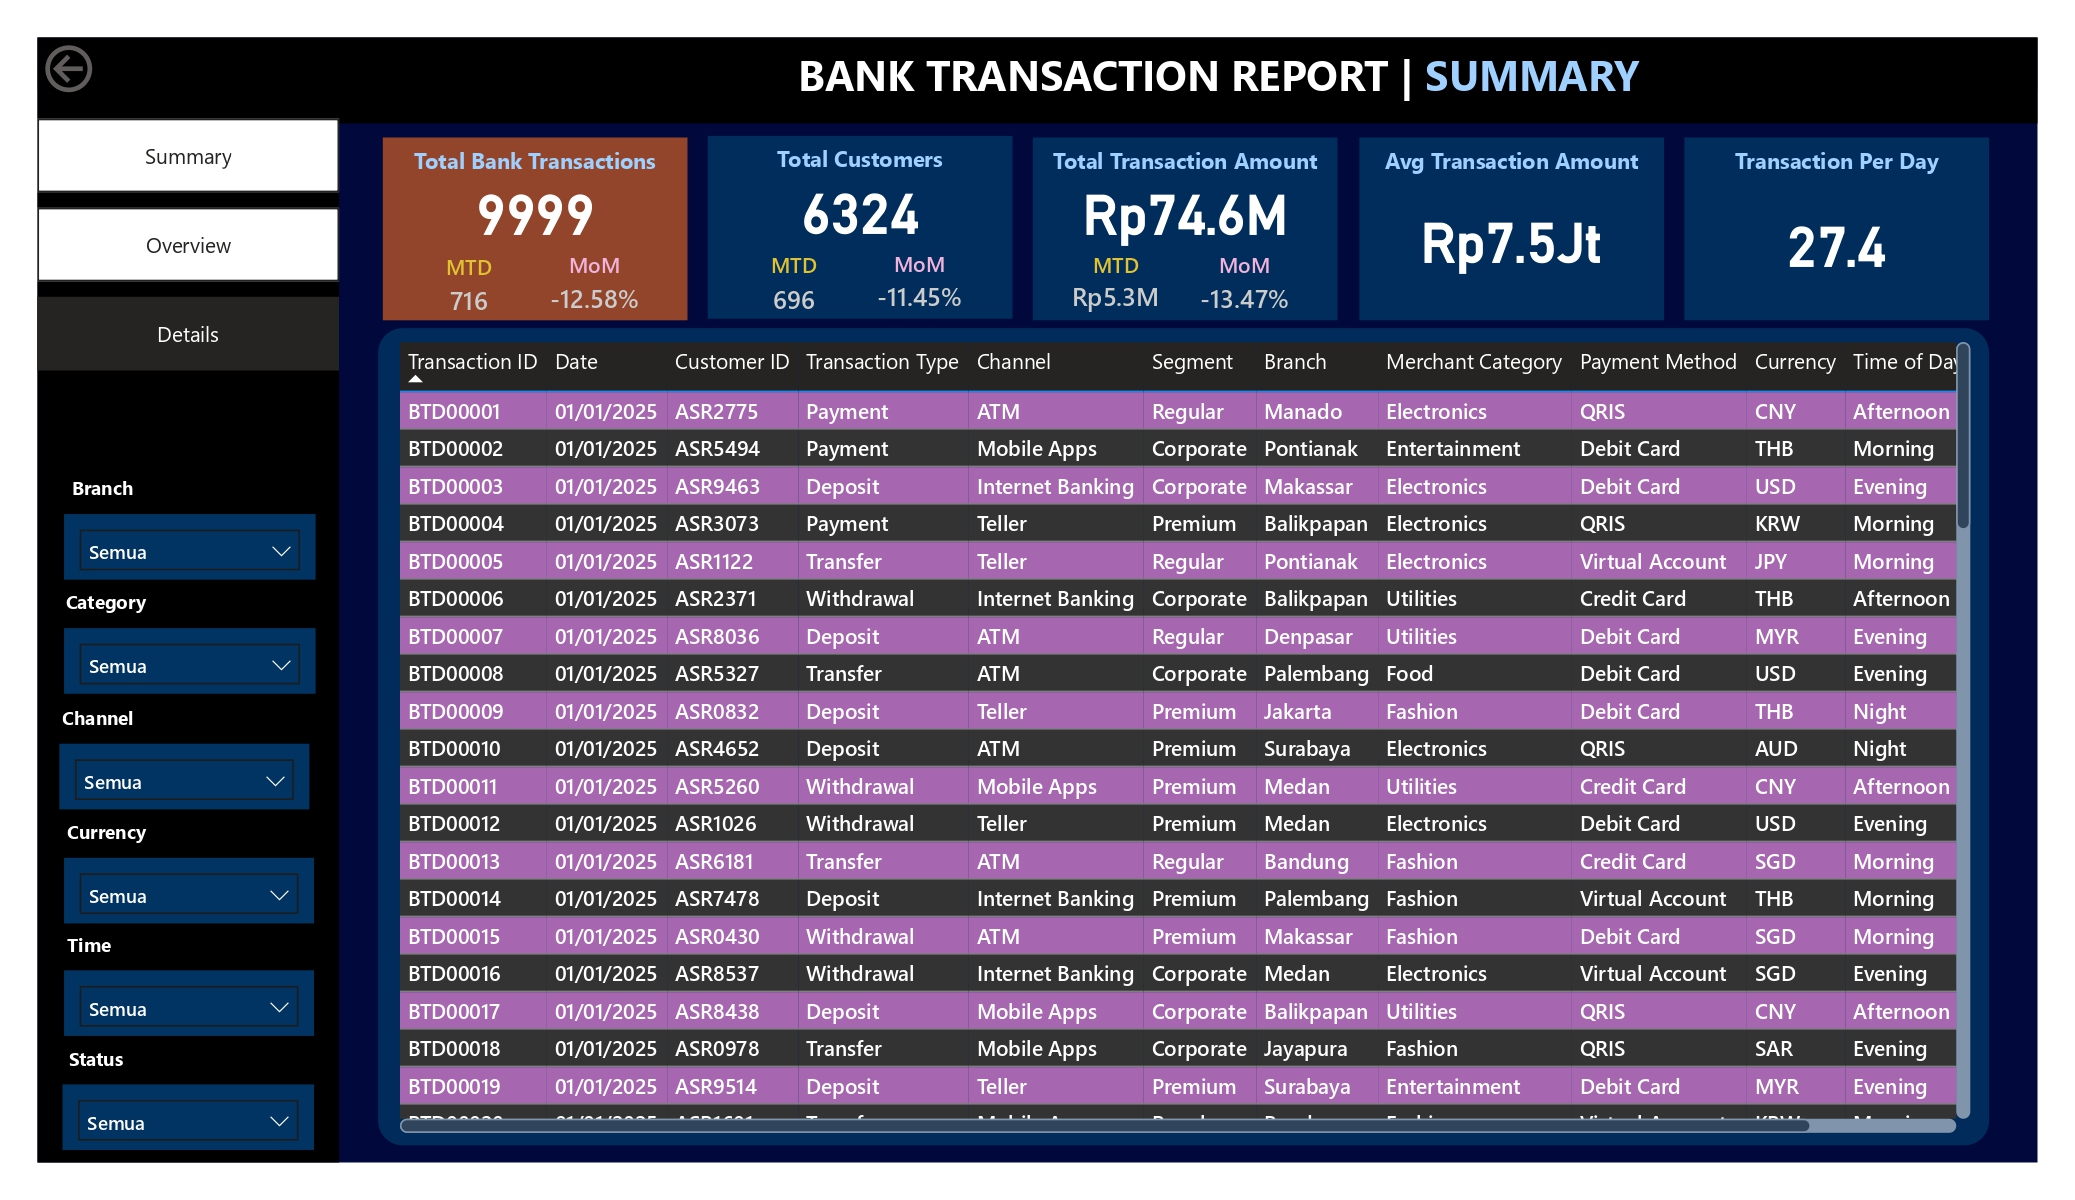

The page's visual inventory and layout, read from the dashboard file:
{"tool":"powerbi","page":{"name":"Summary","canvas":[1280,720],"ordinal":0},"visuals":[{"type":"shape","box":[0,54.8,192,665.5],"z":0},{"type":"shape","box":[428.9,63.3,195.1,117.3],"z":0,"group":"g5"},{"type":"shape","box":[220.6,63.7,195.1,117.3],"z":0,"group":"g4"},{"type":"shape","box":[637.3,63.7,195.1,117.3],"z":0,"group":"g6"},{"type":"shape","box":[845.7,63.7,195.1,117.3],"z":0,"group":"g7"},{"type":"shape","box":[1054.1,63.7,195.1,117.3],"z":0,"group":"g8"},{"type":"textbox","box":[223.1,202.3,328.9,39.5],"z":0,"group":"g9"},{"type":"textbox","box":[570.5,202.3,328.9,39.5],"z":0,"group":"g10"},{"type":"textbox","box":[917.9,202.3,328.9,39.5],"z":0,"group":"g11"},{"type":"card","fields":{"Values":["bank.UniqueCustomers"]},"box":[428.9,82.4,195.1,54.8],"z":1000,"group":"g5"},{"type":"card","fields":{"Values":["bank.TotalTransaction"]},"box":[220.6,82.8,195.1,54.8],"z":1000,"group":"g4"},{"type":"card","fields":{"Values":["bank.TotalAmount"]},"box":[637.3,82.8,195.1,54.8],"z":1000,"group":"g6"},{"type":"card","fields":{"Values":["bank.AverageTransactionValue"]},"box":[845.7,100.7,195.1,54.8],"z":1000,"group":"g7"},{"type":"card","fields":{"Values":["bank.TransactionPerDay"]},"box":[1054.1,103.2,195.1,54.8],"z":1000,"group":"g8"},{"type":"group","id":"g1","title":"Group 2","box":[219.3,257.1,167,168.3],"z":1000,"group":"g9"},{"type":"group","id":"g2","title":"Group 2","box":[566.7,257.1,167,168.3],"z":1000,"group":"g10"},{"type":"group","id":"g3","title":"Group 2","box":[914.1,257.1,167,168.3],"z":1000,"group":"g11"},{"type":"shape","box":[216.7,470.4,1033.9,239.7],"z":1000},{"type":"textbox","box":[428.9,63.3,195.1,39.5],"z":2000,"group":"g5"},{"type":"textbox","box":[220.6,63.7,195.1,39.5],"z":2000,"group":"g4"},{"type":"textbox","box":[637.3,63.7,195.1,39.5],"z":2000,"group":"g6"},{"type":"textbox","box":[845.7,63.7,195.1,39.5],"z":2000,"group":"g7"},{"type":"textbox","box":[1054.1,63.7,195.1,39.5],"z":2000,"group":"g8"},{"type":"shape","box":[564.1,195.1,340,260.1],"z":2000},{"type":"cardVisual","fields":{"Data":["bank.TotalSuccessTransaction","bank.TotalSuccessCustomers","bank.TotalSuccessAmount"]},"box":[369.7,230.3,183.6,218],"z":2000,"group":"g9"},{"type":"cardVisual","fields":{"Data":["bank.TotalPendingTransaction","bank.TotalPendingCustomers","bank.TotalPendingAmount"]},"box":[717.1,230.3,183.6,218],"z":2000,"group":"g10"},{"type":"cardVisual","fields":{"Data":["bank.TotalFailedTransaction","bank.TotalFailedCustomers","bank.TotalFailedAmount"]},"box":[1064.5,230.3,183.6,218],"z":2000,"group":"g11"},{"type":"card","title":"MTD","fields":{"Values":["bank.MTDCustomer"]},"box":[450.6,137.2,66.3,48.4],"z":3000,"group":"g5"},{"type":"card","title":"MTD","fields":{"Values":["bank.MTDAmount"]},"box":[654.2,137.2,72.3,42.2],"z":3000,"group":"g6"},{"type":"card","title":"MTD","fields":{"Values":["bank.MTDBankTransactions"]},"box":[242.3,137.6,66.3,48.4],"z":3000,"group":"g4"},{"type":"shape","box":[218,195.1,340,260.1],"z":3000},{"type":"textbox","box":[16.6,274.1,56.1,39.5],"z":3000,"group":"g12"},{"type":"shape","box":[0,0,1280,55],"z":4000},{"type":"card","title":"MoM","fields":{"Values":["bank.MoMCustomer"]},"box":[526.5,136.8,75.9,47],"z":4000,"group":"g5"},{"type":"card","title":"MoM","fields":{"Values":["bank.MoMBankTransactions"]},"box":[318.2,137.2,75.9,47],"z":4000,"group":"g4"},{"type":"card","title":"MoM","fields":{"Values":["bank.MoMAmount"]},"box":[734.9,137.2,75.9,47],"z":4000,"group":"g6"},{"type":"textbox","box":[637.1,475.5,195.1,39.5],"z":5000},{"type":"textbox","box":[481.9,0,557.1,56.1],"z":6000},{"type":"group","id":"g4","title":"Group 1","box":[220.6,63.7,195.1,122.4],"z":7000},{"type":"group","id":"g5","title":"Group 1","box":[428.9,63.3,195.1,122.4],"z":8000},{"type":"group","id":"g6","title":"Group 1","box":[637.3,63.7,195.1,120.5],"z":9000},{"type":"group","id":"g7","title":"Group 1","box":[845.7,63.7,195.1,117.3],"z":10000},{"type":"group","id":"g8","title":"Group 1","box":[1054.1,63.7,195.1,117.3],"z":11000},{"type":"actionButton","box":[0,0,100,40],"z":12000},{"type":"shape","box":[910.3,195.1,340.4,260.1],"z":13000},{"type":"donutChart","fields":{"Category":["bank.Transaction Status"],"Y":["bank.TotalTransaction"]},"box":[219.3,257.1,167,168.3],"z":13000,"group":"g1"},{"type":"donutChart","fields":{"Category":["bank.Transaction Status"],"Y":["bank.TotalTransaction"]},"box":[566.7,257.1,167,168.3],"z":13000,"group":"g2"},{"type":"donutChart","fields":{"Category":["bank.Transaction Status"],"Y":["bank.TotalTransaction"]},"box":[914.1,257.1,167,168.3],"z":13000,"group":"g3"},{"type":"card","fields":{"Values":["bank.SucessTransPerc"]},"box":[242.2,309.4,121.1,63.7],"z":13500,"group":"g1"},{"type":"card","fields":{"Values":["bank.PendingTransPerc"]},"box":[589.6,309.4,121.1,63.7],"z":13500,"group":"g2"},{"type":"card","fields":{"Values":["bank.FailedTransPerc"]},"box":[937,309.4,121.1,63.7],"z":13500,"group":"g3"},{"type":"group","id":"g9","title":"Group 3","box":[219.3,202.3,334,246.1],"z":14000},{"type":"group","id":"g10","title":"Group 3","box":[566.7,202.3,334,246.1],"z":15000},{"type":"group","id":"g11","title":"Group 3","box":[914.1,202.3,334,246.1],"z":16000},{"type":"tableEx","fields":{"Values":["bank.Status","bank.TotalTransaction","bank.UniqueCustomers","bank.MTDCustomer","bank.TotalAmount","bank.MTDAmount","bank.AverageTransactionValue","bank.TransactionPerDay"]},"box":[223.4,517.6,1022.5,198.9],"z":17000},{"type":"group","id":"g12","title":"Group 4","box":[16.6,274.1,160.6,72.7],"z":18000},{"type":"slicer","fields":{"Values":["bank.Branch"]},"box":[16.6,304.7,160.6,42.1],"z":19000,"group":"g12"},{"type":"group","id":"g13","title":"Group 5","box":[12.7,346.8,164.5,73.9],"z":19000},{"type":"textbox","box":[12.7,346.8,72.7,39.5],"z":20000,"group":"g13"},{"type":"group","id":"g14","title":"Group 5","box":[11.5,420.7,163.2,72.9],"z":20000},{"type":"textbox","box":[11.5,420.7,70.1,39.5],"z":20000,"group":"g14"},{"type":"textbox","box":[14,493.5,70.1,39.5],"z":20000,"group":"g15"},{"type":"textbox","box":[14,566.1,70.1,39.5],"z":20000,"group":"g16"},{"type":"textbox","box":[14.9,638.7,70.1,39.5],"z":20000,"group":"g17"},{"type":"slicer","fields":{"Values":["bank.MerchantCategory"]},"box":[16.9,377.7,160.6,42.1],"z":21000,"group":"g13"},{"type":"slicer","fields":{"Values":["bank.Channel"]},"box":[14.1,451.6,160.6,42.1],"z":21000,"group":"g14"},{"type":"group","id":"g15","title":"Group 5","box":[14,493.5,163.2,72.7],"z":21000},{"type":"slicer","fields":{"Values":["bank.Currency"]},"box":[16.6,524.4,160.6,42.1],"z":21000,"group":"g15"},{"type":"slicer","fields":{"Values":["bank.TimeOfDay"]},"box":[16.6,597,160.6,42.1],"z":21000,"group":"g16"},{"type":"slicer","fields":{"Values":["bank.TransactionType"]},"box":[16.1,669.7,160.6,42.1],"z":21000,"group":"g17"},{"type":"group","id":"g16","title":"Group 5","box":[14,566.1,163.2,72.7],"z":22000},{"type":"group","id":"g17","title":"Group 5","box":[14.9,638.7,161.9,72.7],"z":23000},{"type":"pageNavigator","box":[0,52.3,192.5,161.9],"z":24000}]}

Visuals, with their boxes on the page's 1280x720 design canvas (x1, y1, x2, y2). These are canvas units, not pixel positions in the 2075x1200 screenshot, which may show the page scaled, cropped or inside an application window:
shape: rect(0, 55, 192, 720)
shape: rect(429, 63, 624, 181)
shape: rect(221, 64, 416, 181)
shape: rect(637, 64, 832, 181)
shape: rect(846, 64, 1041, 181)
shape: rect(1054, 64, 1249, 181)
textbox: rect(223, 202, 552, 242)
textbox: rect(570, 202, 899, 242)
textbox: rect(918, 202, 1247, 242)
card - bank.UniqueCustomers: rect(429, 82, 624, 137)
card - bank.TotalTransaction: rect(221, 83, 416, 138)
card - bank.TotalAmount: rect(637, 83, 832, 138)
card - bank.AverageTransactionValue: rect(846, 101, 1041, 156)
card - bank.TransactionPerDay: rect(1054, 103, 1249, 158)
"Group 2" group: rect(219, 257, 386, 425)
"Group 2" group: rect(567, 257, 734, 425)
"Group 2" group: rect(914, 257, 1081, 425)
shape: rect(217, 470, 1251, 710)
textbox: rect(429, 63, 624, 103)
textbox: rect(221, 64, 416, 103)
textbox: rect(637, 64, 832, 103)
textbox: rect(846, 64, 1041, 103)
textbox: rect(1054, 64, 1249, 103)
shape: rect(564, 195, 904, 455)
cardVisual - bank.TotalSuccessTransaction x bank.TotalSuccessCustomers: rect(370, 230, 553, 448)
cardVisual - bank.TotalPendingTransaction x bank.TotalPendingCustomers: rect(717, 230, 901, 448)
cardVisual - bank.TotalFailedTransaction x bank.TotalFailedCustomers: rect(1064, 230, 1248, 448)
"MTD" card: rect(451, 137, 517, 186)
"MTD" card: rect(654, 137, 726, 179)
"MTD" card: rect(242, 138, 309, 186)
shape: rect(218, 195, 558, 455)
textbox: rect(17, 274, 73, 314)
shape: rect(0, 0, 1280, 55)
"MoM" card: rect(526, 137, 602, 184)
"MoM" card: rect(318, 137, 394, 184)
"MoM" card: rect(735, 137, 811, 184)
textbox: rect(637, 476, 832, 515)
textbox: rect(482, 0, 1039, 56)
"Group 1" group: rect(221, 64, 416, 186)
"Group 1" group: rect(429, 63, 624, 186)
"Group 1" group: rect(637, 64, 832, 184)
"Group 1" group: rect(846, 64, 1041, 181)
"Group 1" group: rect(1054, 64, 1249, 181)
actionButton: rect(0, 0, 100, 40)
shape: rect(910, 195, 1251, 455)
donutChart - bank.Transaction Status x bank.TotalTransaction: rect(219, 257, 386, 425)
donutChart - bank.Transaction Status x bank.TotalTransaction: rect(567, 257, 734, 425)
donutChart - bank.Transaction Status x bank.TotalTransaction: rect(914, 257, 1081, 425)
card - bank.SucessTransPerc: rect(242, 309, 363, 373)
card - bank.PendingTransPerc: rect(590, 309, 711, 373)
card - bank.FailedTransPerc: rect(937, 309, 1058, 373)
"Group 3" group: rect(219, 202, 553, 448)
"Group 3" group: rect(567, 202, 901, 448)
"Group 3" group: rect(914, 202, 1248, 448)
tableEx - bank.Status x bank.TotalTransaction: rect(223, 518, 1246, 716)
"Group 4" group: rect(17, 274, 177, 347)
slicer - bank.Branch: rect(17, 305, 177, 347)
"Group 5" group: rect(13, 347, 177, 421)
textbox: rect(13, 347, 85, 386)
"Group 5" group: rect(12, 421, 175, 494)
textbox: rect(12, 421, 82, 460)
textbox: rect(14, 494, 84, 533)
textbox: rect(14, 566, 84, 606)
textbox: rect(15, 639, 85, 678)
slicer - bank.MerchantCategory: rect(17, 378, 178, 420)
slicer - bank.Channel: rect(14, 452, 175, 494)
"Group 5" group: rect(14, 494, 177, 566)
slicer - bank.Currency: rect(17, 524, 177, 566)
slicer - bank.TimeOfDay: rect(17, 597, 177, 639)
slicer - bank.TransactionType: rect(16, 670, 177, 712)
"Group 5" group: rect(14, 566, 177, 639)
"Group 5" group: rect(15, 639, 177, 711)
pageNavigator: rect(0, 52, 192, 214)
